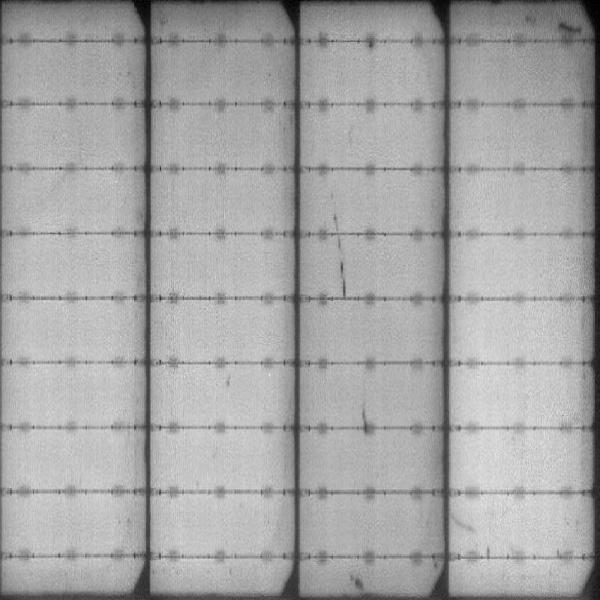scratch: (327, 208, 353, 292), (359, 407, 373, 434)
